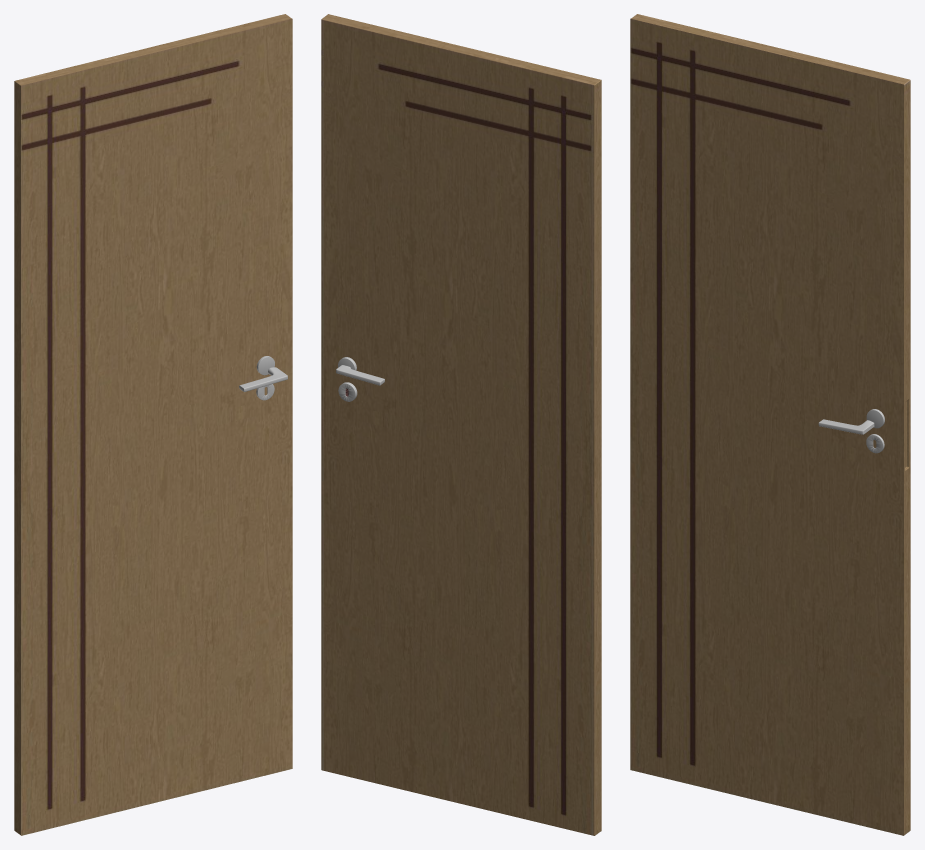
Rendered from door_body.glb.
3 views of the same model, side by side, from view 1: azimuth 30°, elevation 25°; view 2: azimuth 150°, elevation 25°; view 3: azimuth 330°, elevation 25° (orthographic).
Visible parts, largest first — view 1: Porta pB190.001; view 2: Porta pB190.001; view 3: Porta pB190.001.
Boxes of the visible parts, <box> form: Porta pB190.001: <box>14,14,292,835</box>; Porta pB190.001: <box>321,14,601,835</box>; Porta pB190.001: <box>630,14,910,835</box>.
Bounding box in the file's own units: 0.7982 × 2.1 × 0.1711.
Materials: 3 (1 with a texture image).
